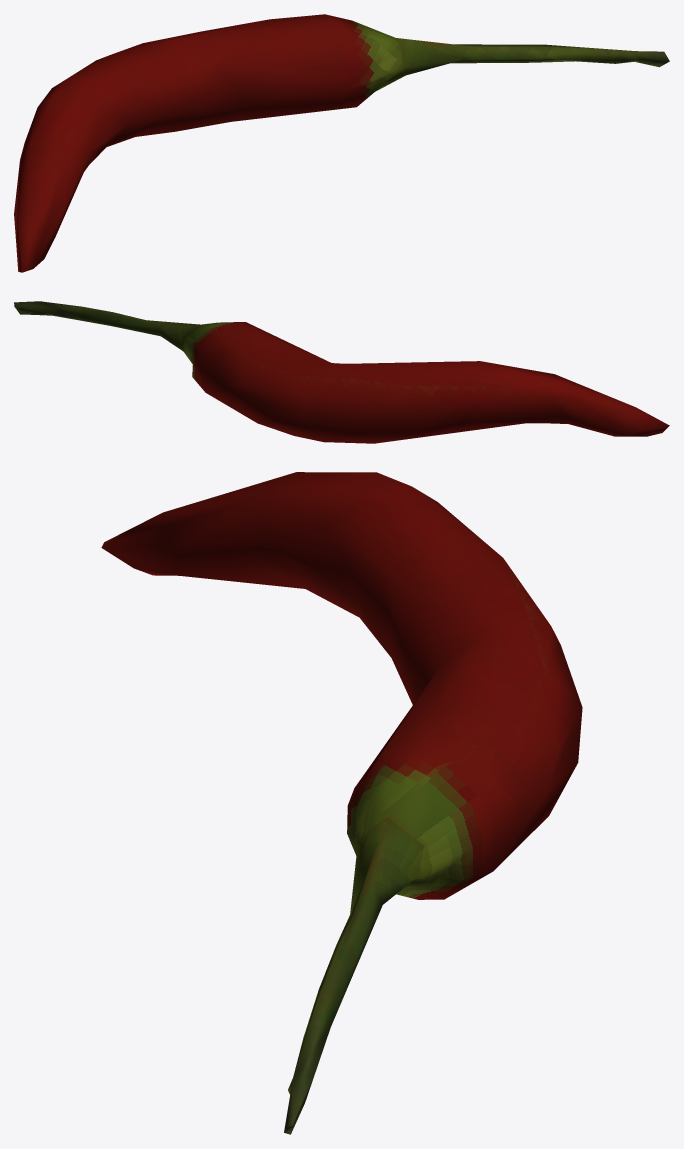
Rendered from ref_pepperfresh.glb.
The picture shows the model from 3 angles, top to bottom: view 1: azimuth 30°, elevation 25°; view 2: azimuth 150°, elevation 25°; view 3: azimuth 270°, elevation 25°; orthographic projection. The views are drawn at different scales.
Visible parts, largest first — view 1: ref_pepperfresh_part0; view 2: ref_pepperfresh_part0; view 3: ref_pepperfresh_part0.
Boxes of the visible parts, x1=… form: ref_pepperfresh_part0: x1=14, y1=14, x2=669, y2=272; ref_pepperfresh_part0: x1=14, y1=301, x2=669, y2=443; ref_pepperfresh_part0: x1=101, y1=472, x2=582, y2=1134.
Bounding box in the file's own units: 1 × 0.1428 × 0.3412.
Materials: 1 (1 with a texture image).
